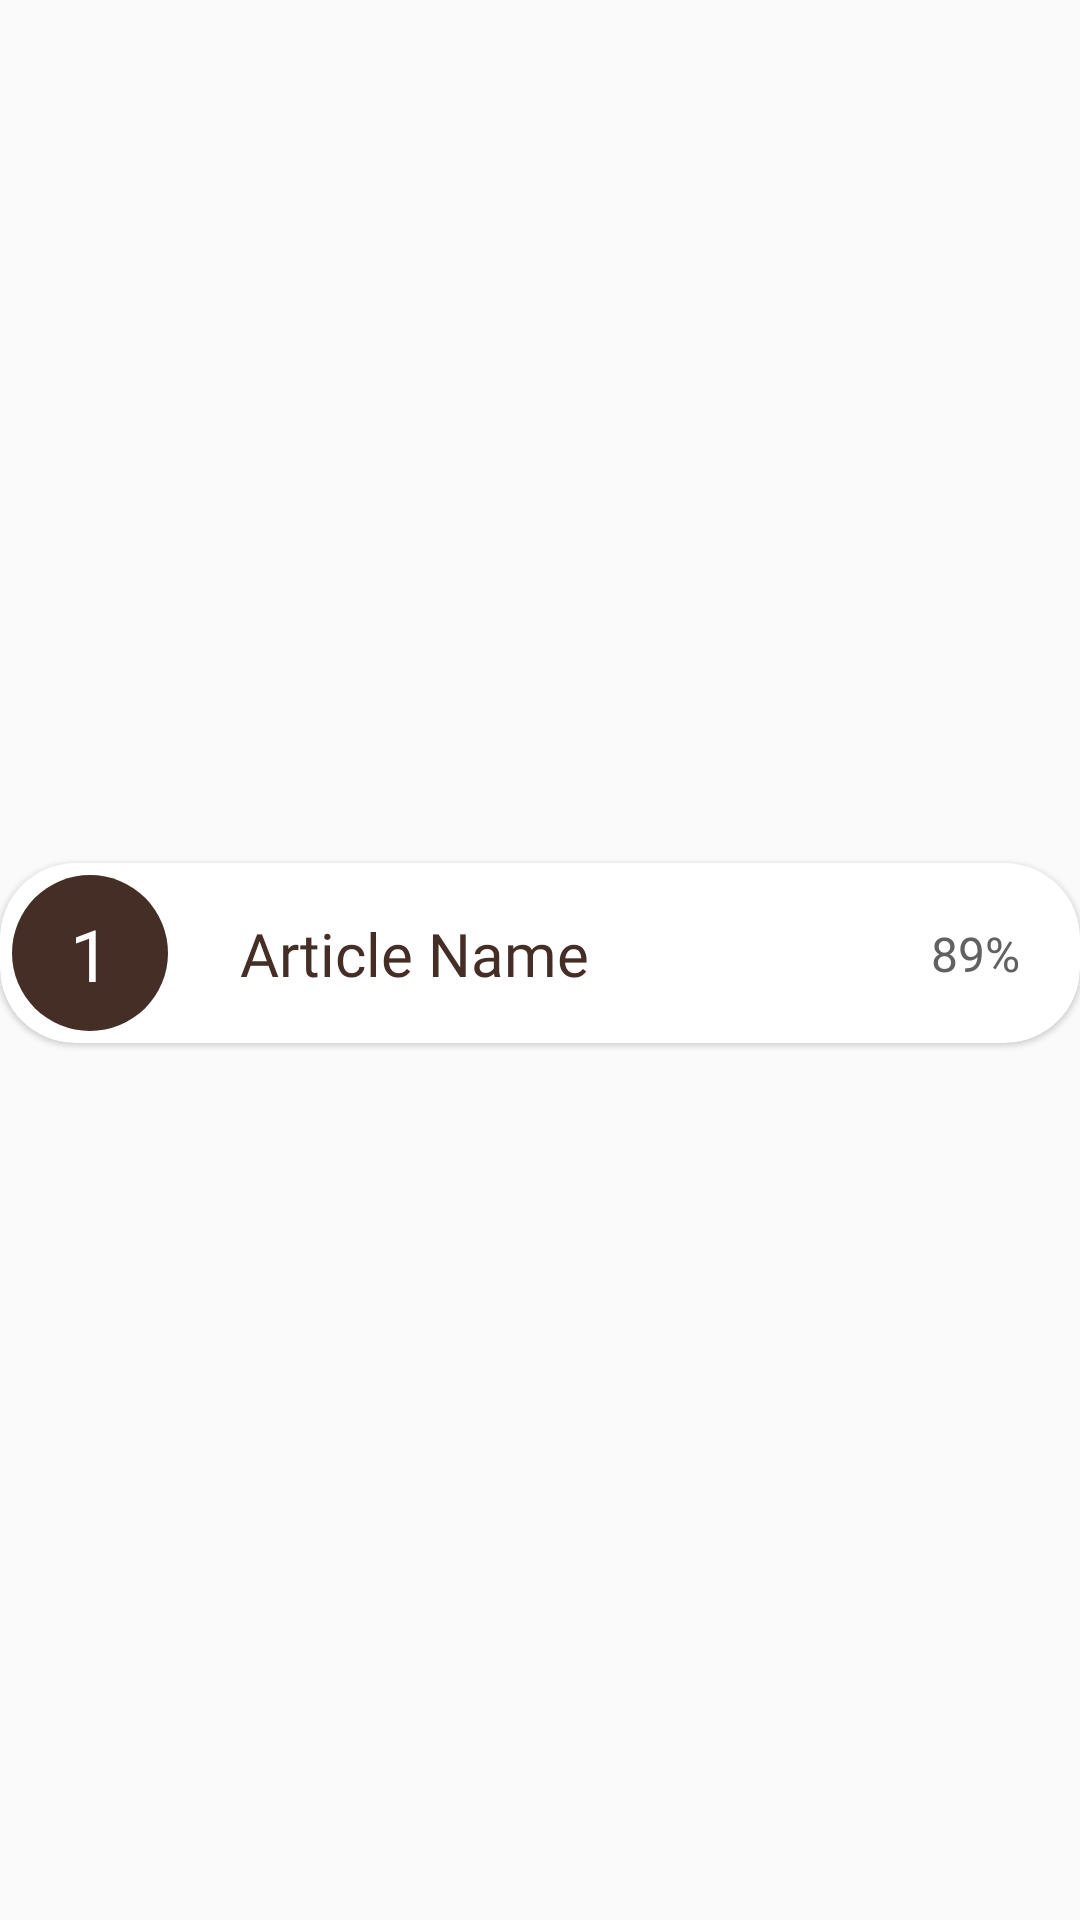

Named icons in this screenshot (1080w x 1920h) and their centers, (x,y):
circle: (84,953)
